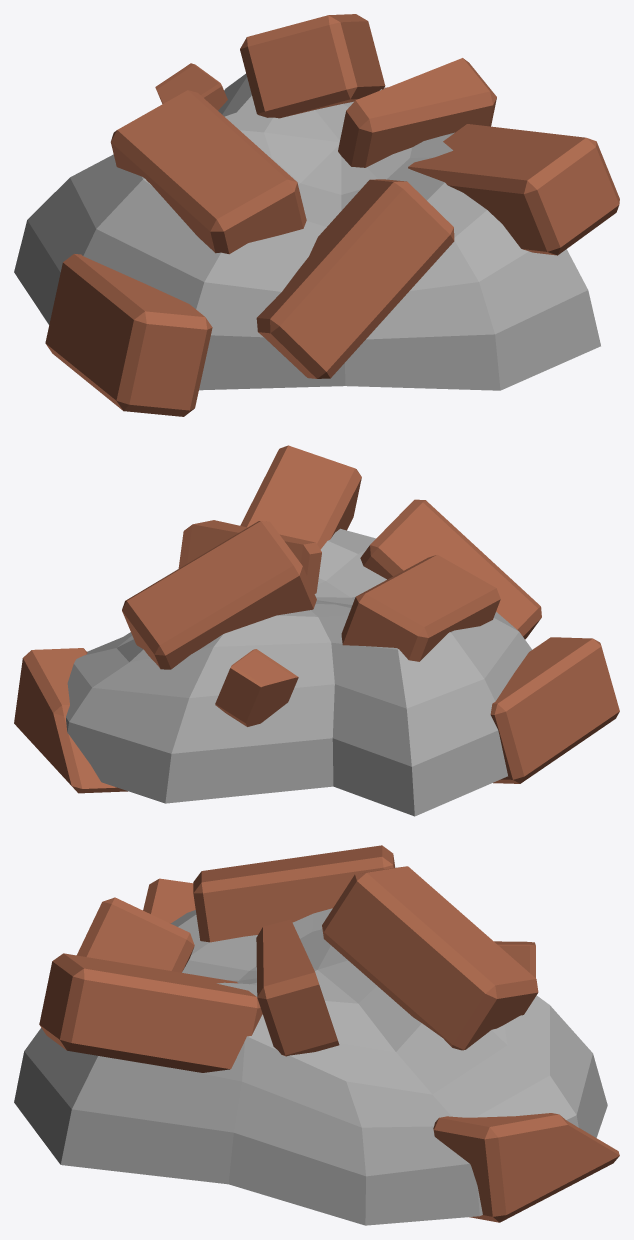
File: MontonLadrillos.fbx
3 renders of one model, top to bottom at view 1: azimuth 30°, elevation 25°; view 2: azimuth 150°, elevation 25°; view 3: azimuth 270°, elevation 25°, orthographic. The views are drawn at different scales.
Parts seen in each view (by area): view 1: polySurface53, polySurface43; view 2: polySurface43, polySurface53; view 3: polySurface43, polySurface53.
Boxes of the visible parts, <box> form: polySurface53: <box>45,14,619,416</box>; polySurface43: <box>14,73,600,390</box>; polySurface43: <box>66,528,532,816</box>; polySurface53: <box>14,445,619,793</box>; polySurface43: <box>14,908,607,1225</box>; polySurface53: <box>39,845,619,1222</box>.
Size of the model in its own units: 0.8665 by 0.4111 by 0.8586.
